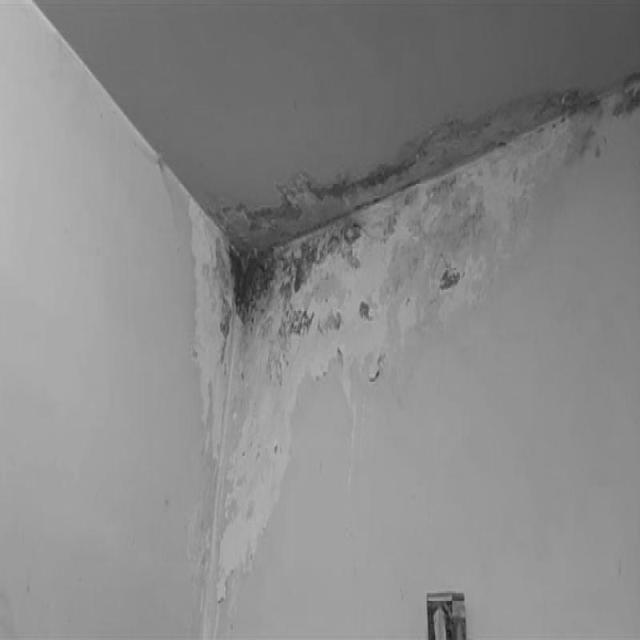stain marks: (343, 72, 640, 319), (193, 208, 344, 396)
